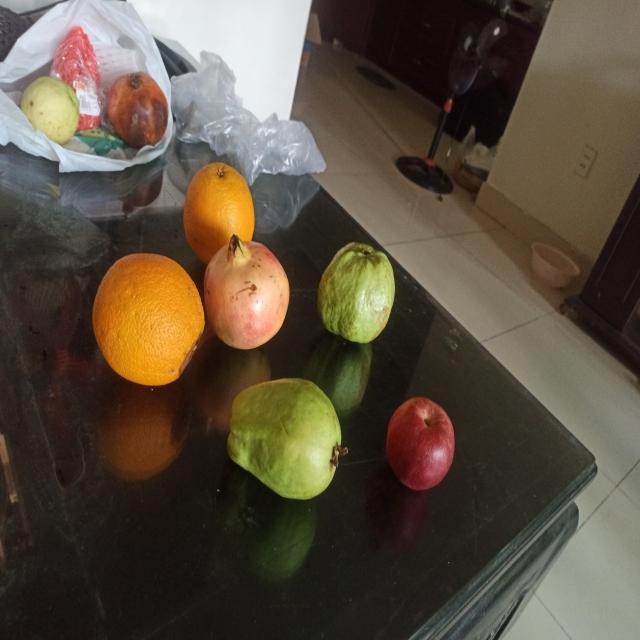apple: (386, 396, 456, 492)
